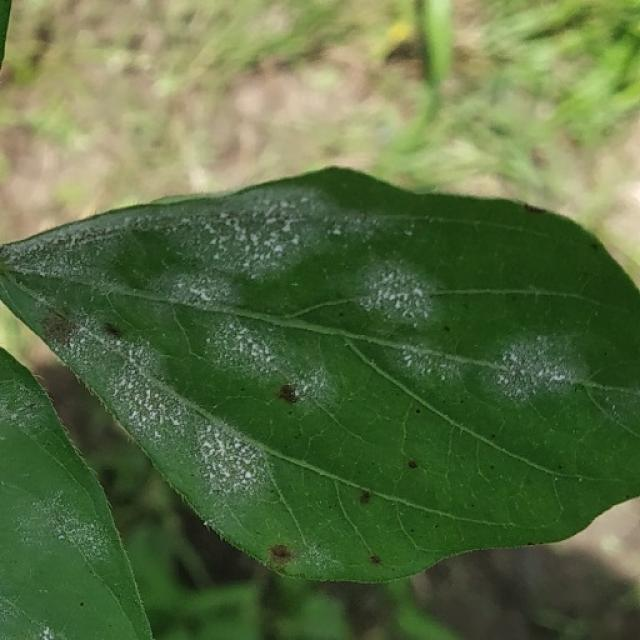Blackgram: (0, 169, 639, 580)
Powdery_Mildew: (136, 211, 402, 431), (373, 294, 604, 403), (108, 345, 260, 492), (199, 311, 307, 382), (202, 207, 313, 267), (189, 411, 269, 494), (112, 339, 191, 418), (489, 333, 585, 397), (21, 213, 145, 262), (40, 492, 113, 561), (359, 265, 436, 330), (375, 329, 461, 387), (356, 262, 434, 322), (4, 391, 62, 449), (54, 316, 114, 368), (284, 363, 334, 407), (291, 541, 342, 574), (183, 280, 230, 305), (135, 391, 167, 424), (4, 403, 33, 426), (259, 229, 287, 252), (127, 405, 145, 424), (201, 441, 216, 457), (249, 342, 264, 358), (280, 220, 295, 235), (549, 371, 567, 383), (41, 625, 54, 639), (329, 224, 344, 236), (198, 290, 214, 301), (249, 233, 261, 246), (403, 353, 414, 367), (508, 352, 520, 364), (219, 467, 231, 479), (144, 388, 153, 403), (273, 244, 285, 255), (398, 291, 410, 302), (404, 227, 414, 237), (244, 470, 253, 480), (291, 236, 300, 245), (220, 212, 230, 220)
